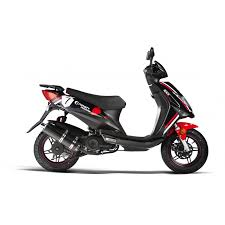motorcycle: (27, 44, 212, 175)
